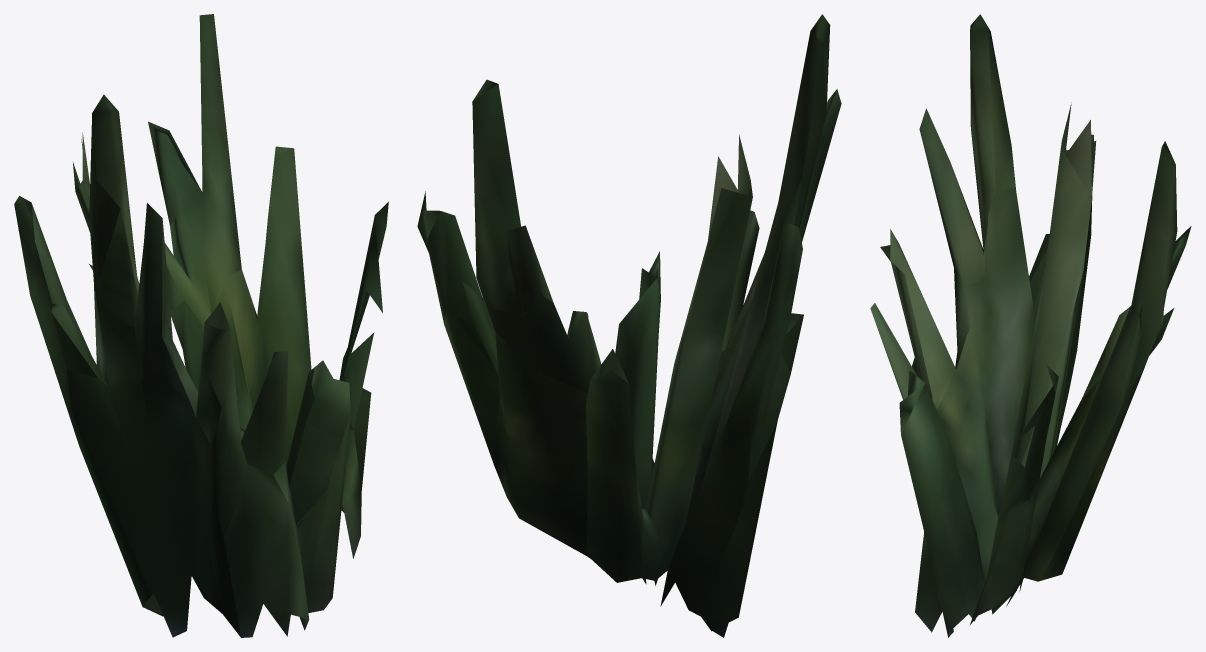
Rendered from terrain4_plant_0.glb.
3 views of the same model, side by side, from view 1: azimuth 30°, elevation 25°; view 2: azimuth 150°, elevation 25°; view 3: azimuth 270°, elevation 25° (orthographic). The views are drawn at different scales.
Parts seen in each view (by area): view 1: plant_0; view 2: plant_0; view 3: plant_0.
Part boxes in pixels (x1,y1,x2,y2): plant_0: (14,14,388,637); plant_0: (417,14,841,637); plant_0: (870,14,1191,637).
Size of the model in its own units: 8.75 by 13.35 by 7.14.
Materials: 1 (1 with a texture image).
